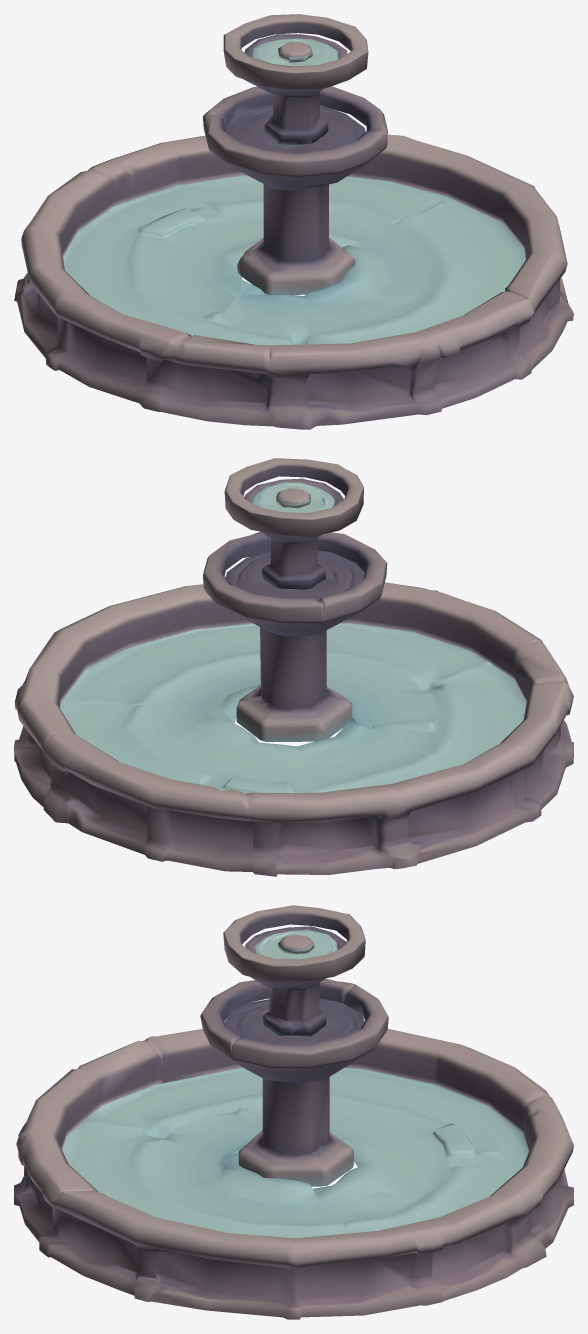
The model's file is plaza-fountain.glb.
3 renders of one model, top to bottom at view 1: azimuth 30°, elevation 25°; view 2: azimuth 150°, elevation 25°; view 3: azimuth 270°, elevation 25°, orthographic.
Visible parts, largest first — view 1: tripo_node_kodyurd-model-77____________________; view 2: tripo_node_kodyurd-model-77____________________; view 3: tripo_node_kodyurd-model-77____________________.
Boxes of the visible parts, <box> form: tripo_node_kodyurd-model-77____________________: <box>14,14,573,429</box>; tripo_node_kodyurd-model-77____________________: <box>14,458,573,876</box>; tripo_node_kodyurd-model-77____________________: <box>14,905,573,1319</box>.
Bounding box in the file's own units: 0.998 × 0.5254 × 0.998.
1 material, 1 textured.
